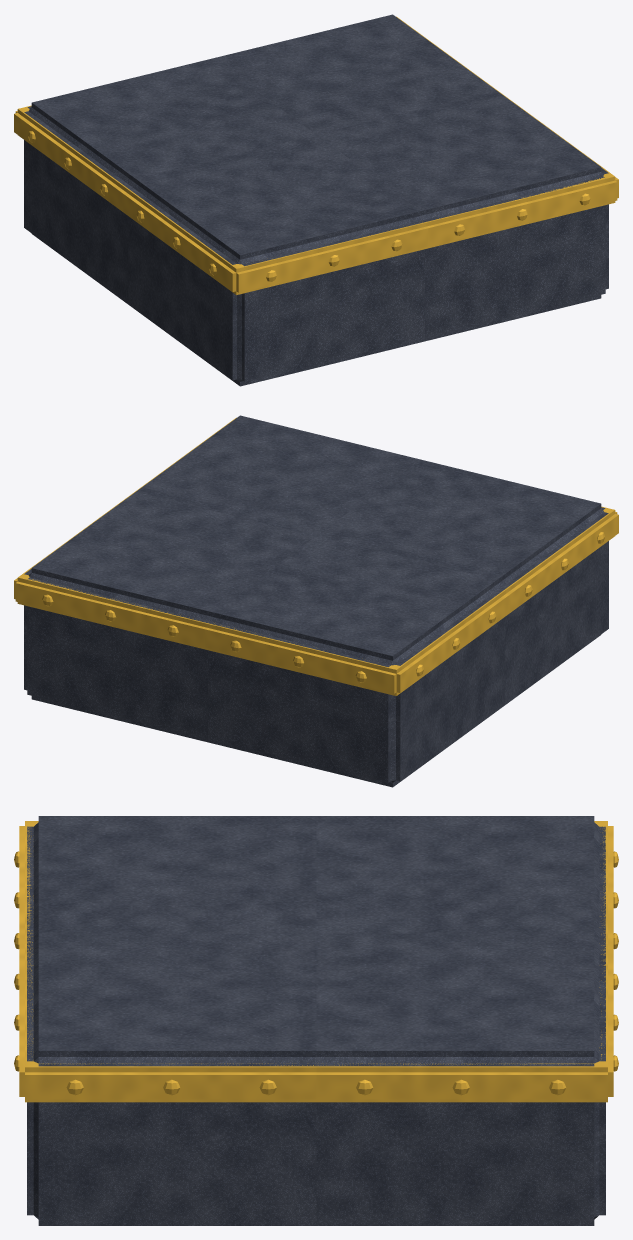
File: Kit_Base_Indestructible.glb
The picture shows the model from 3 angles, top to bottom: view 1: azimuth 30°, elevation 25°; view 2: azimuth 150°, elevation 25°; view 3: azimuth 270°, elevation 25°; orthographic projection. The views are drawn at different scales.
Parts seen in each view (by area): view 1: Kit_Base_Indestructible_LOD0; view 2: Kit_Base_Indestructible_LOD0; view 3: Kit_Base_Indestructible_LOD0.
Part boxes in pixels (box(x1,y1,x2,y2)): Kit_Base_Indestructible_LOD0: box(14, 14, 618, 386); Kit_Base_Indestructible_LOD0: box(14, 415, 618, 787); Kit_Base_Indestructible_LOD0: box(14, 816, 618, 1225).
Size of what is drawn, in the model's own units: 3.14 by 1 by 3.14.
Materials: 2 (2 with a texture image).
